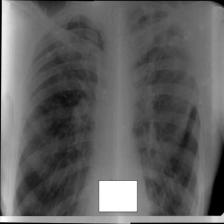tuberculosis: (8, 0, 206, 217)
